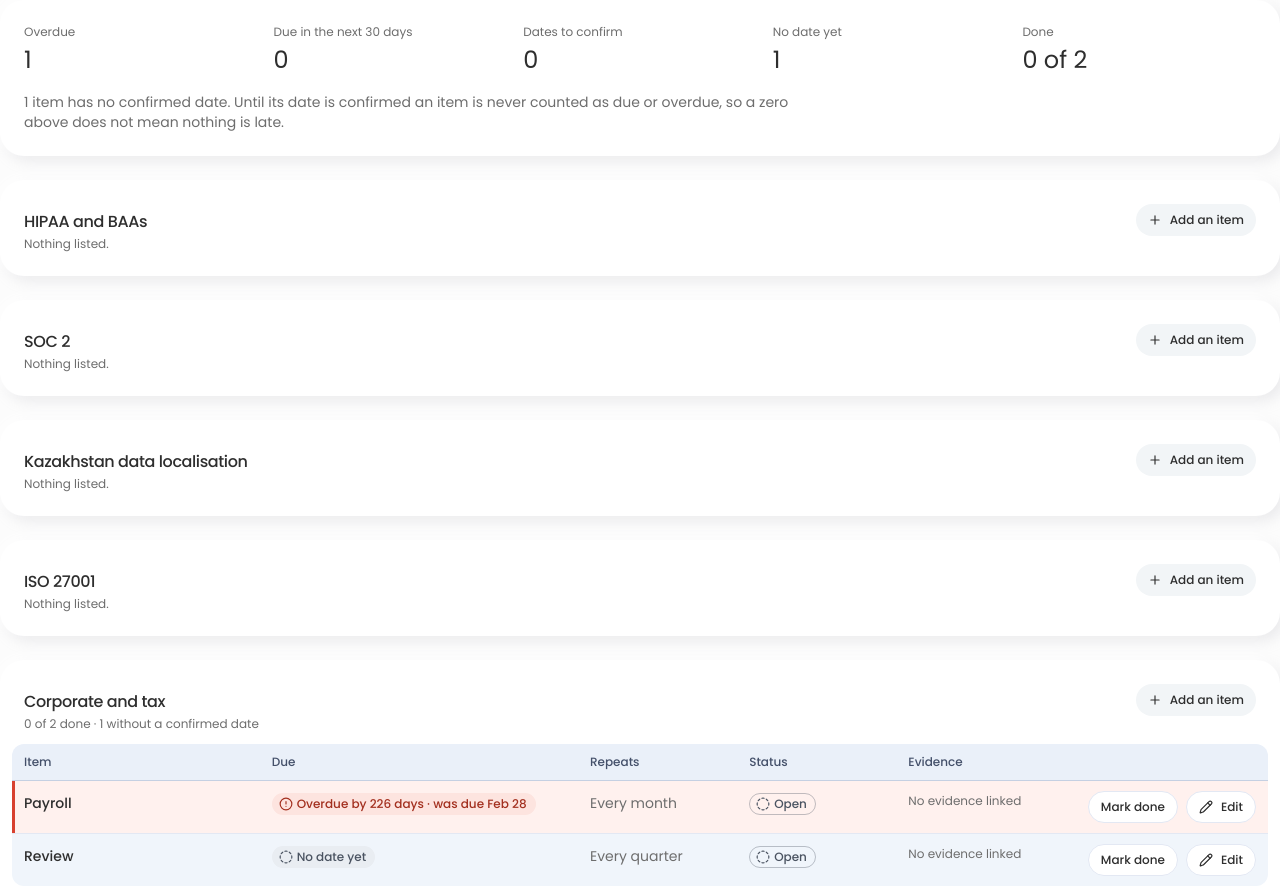
ObligationList: acting on an item › the date it names is the one the server will set: the 31st returns, an undated one counts from today
What coordinates should you click on to do the following:
click the button with aria-label "Mark Payroll done"
I would click on:
 (1133, 807)
Its box is x1=1088 y1=791 x2=1178 y2=823.
(page scrolled)
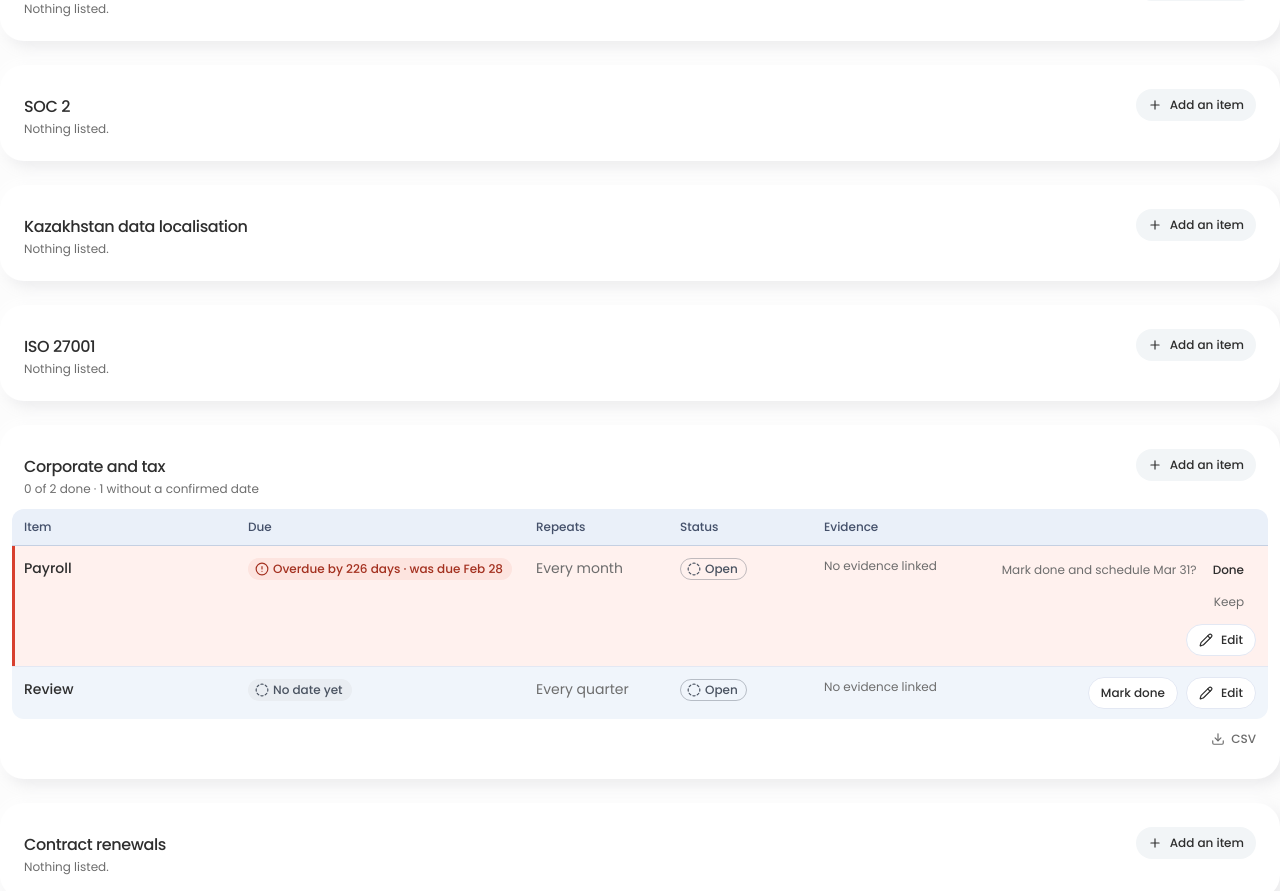
Result: the text "Mark done and schedule Mar 31?" is shown at x1=1002 y1=561 x2=1197 y2=578
What coordinates should you click on to do the following:
click the button with aria-label "Mark Review done"
I would click on:
 (1133, 693)
Its box is x1=1088 y1=677 x2=1178 y2=709.
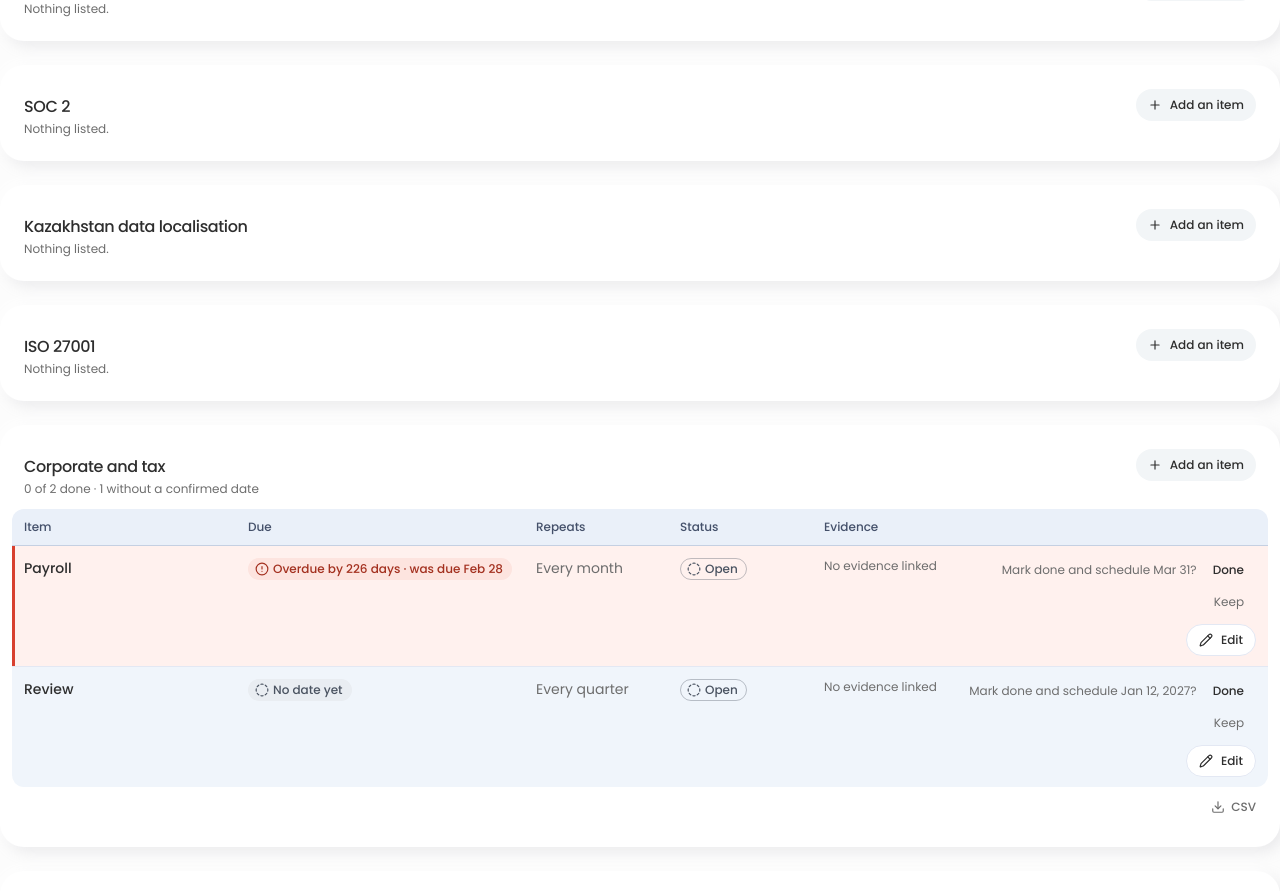
Result: the text "Mark done and schedule Jan 12, 2027?" is shown at x1=969 y1=682 x2=1197 y2=699
